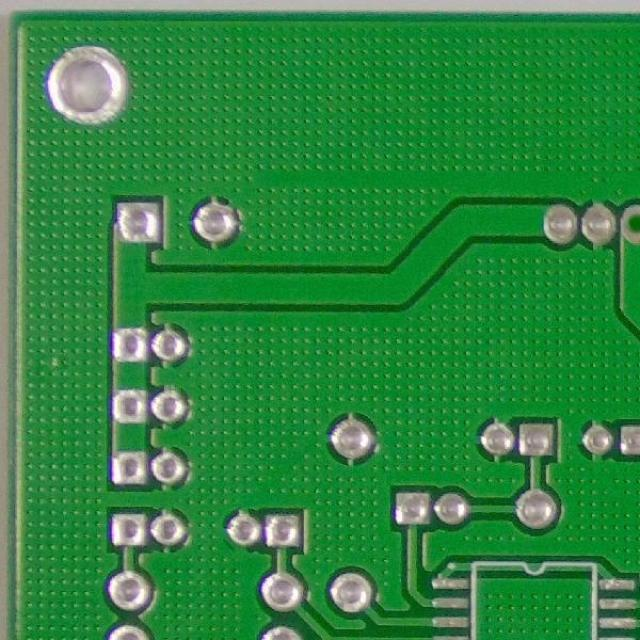missing_hole: (618, 198, 639, 248)
